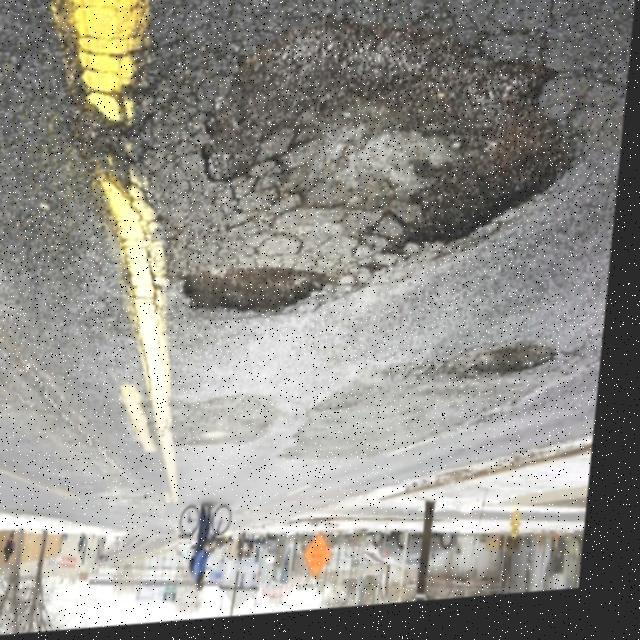pothole: (370, 51, 586, 272), (171, 256, 338, 337), (467, 344, 575, 394)
